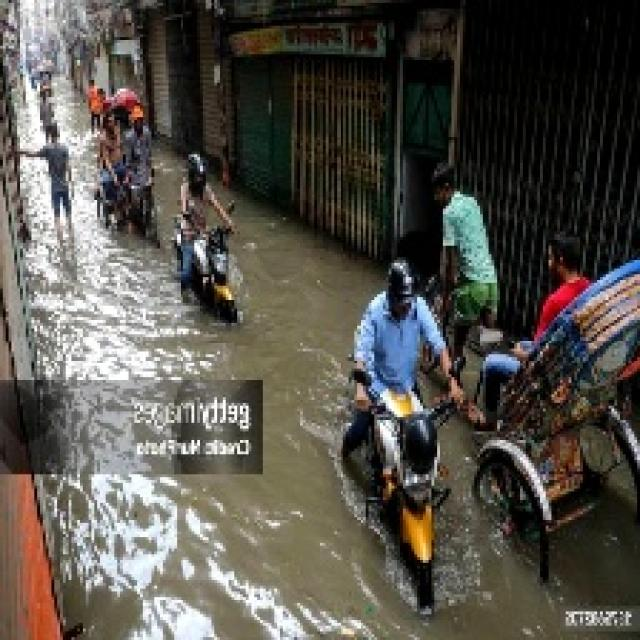bike: (349, 331, 453, 597), (170, 212, 246, 331)
rickshaw: (458, 220, 638, 552), (96, 123, 162, 247)
